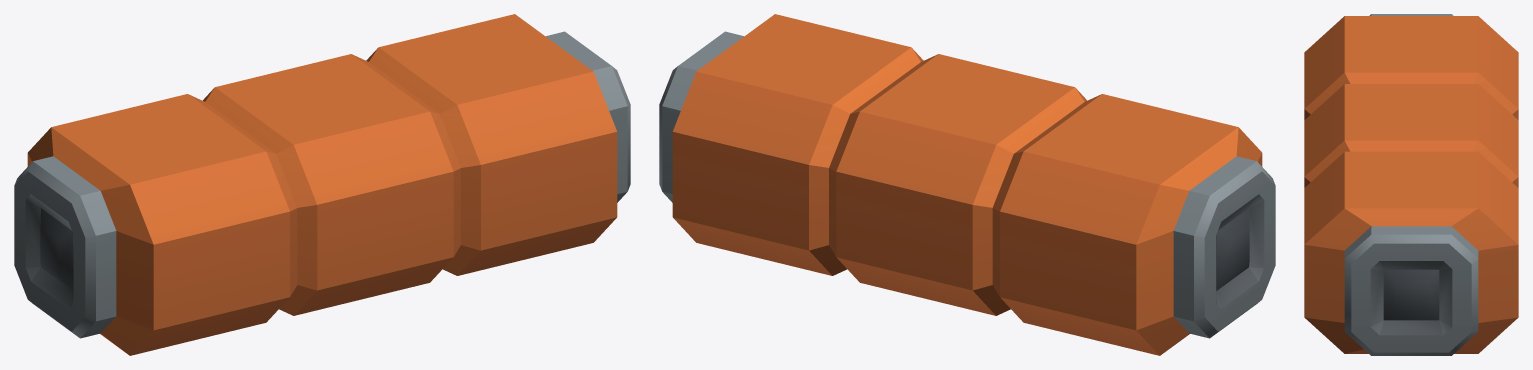
Rendered from kaykit-space-base-bits-tunnel-straight-b.glb.
The picture shows the model from 3 angles, left to right: view 1: azimuth 30°, elevation 25°; view 2: azimuth 150°, elevation 25°; view 3: azimuth 270°, elevation 25°; orthographic projection. The views are drawn at different scales.
Visible parts, largest first — view 1: tunnel_straight_B; view 2: tunnel_straight_B; view 3: tunnel_straight_B.
Boxes of the visible parts, x1,y1,x2,y2 form: tunnel_straight_B: (14, 14, 630, 355); tunnel_straight_B: (659, 14, 1275, 355); tunnel_straight_B: (1304, 14, 1518, 355).
Size of the model in its own units: 2 by 0.5999 by 0.7999.
1 material, 1 textured.
